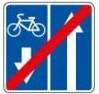road_sign: (1, 0, 95, 94)
